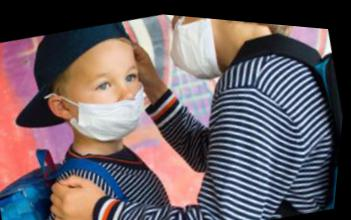WRONG: (60, 44, 163, 153), (158, 12, 239, 87)
